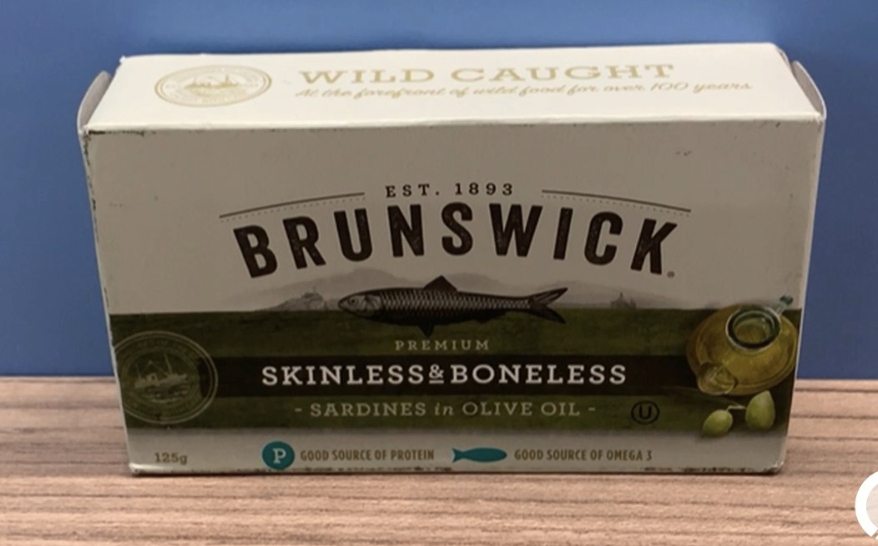sardines_100g-199g: (117, 74, 789, 465)
